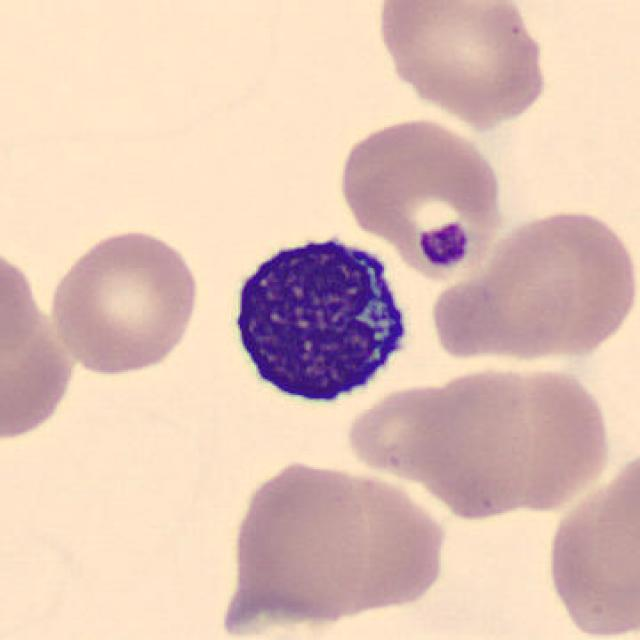Lymphocyte: (215, 220, 420, 416)
Platelets: (414, 219, 473, 275)
RBC: (430, 201, 640, 367), (416, 356, 615, 518), (334, 111, 507, 277), (222, 453, 375, 633), (42, 224, 202, 379), (371, 0, 553, 129), (540, 442, 639, 640), (0, 253, 79, 446), (212, 578, 454, 640), (341, 379, 473, 483)
